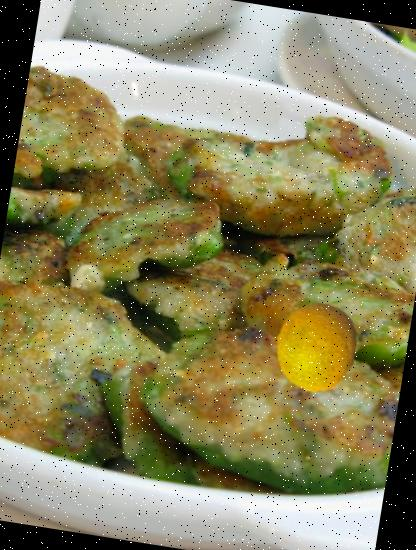Cantaloupe: (263, 296, 366, 399)
